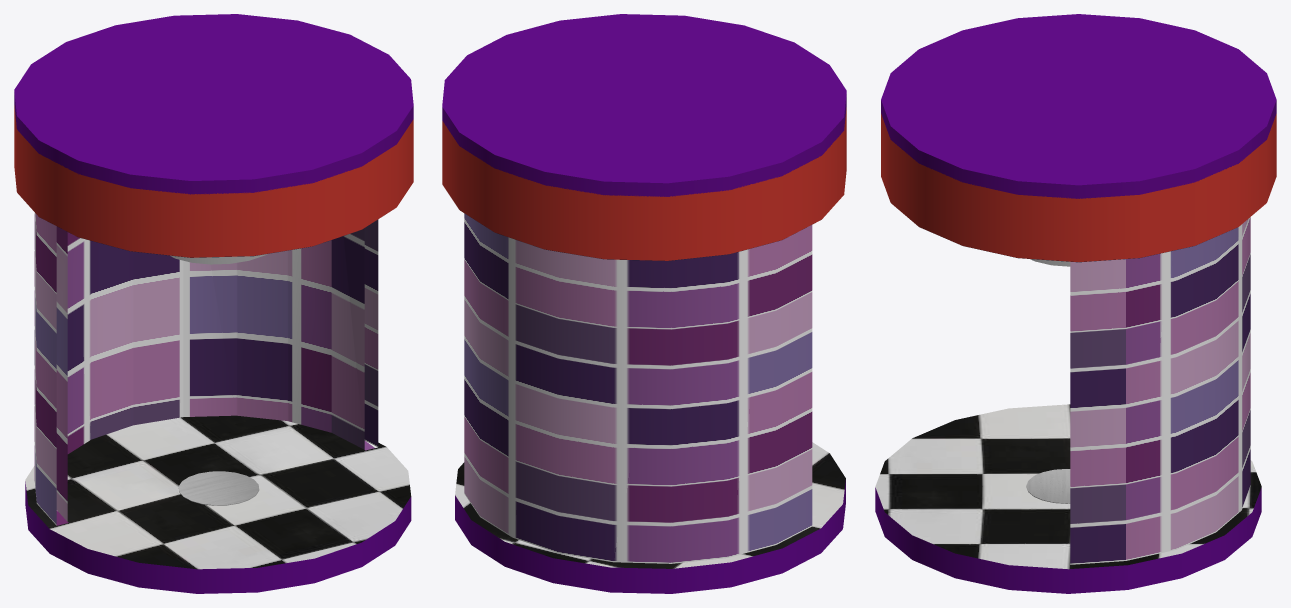
File: Ducha.obj
3 renders of one model, left to right at view 1: azimuth 30°, elevation 25°; view 2: azimuth 150°, elevation 25°; view 3: azimuth 270°, elevation 25°, orthographic.
Visible parts, largest first — view 1: polySurface486polySurface622, polySurface486polySurface672, polySurface486polySurface621, polySurface699polySurface486, polySurface486polySurface619, polySurface486polySurface673; view 2: polySurface486polySurface622, polySurface486polySurface672, polySurface699polySurface486, polySurface486polySurface621; view 3: polySurface486polySurface672, polySurface486polySurface622, polySurface486polySurface621, polySurface699polySurface486, polySurface486polySurface619.
Part boxes in pixels (x1,y1,x2,y2): polySurface486polySurface622: (34,212,378,525); polySurface486polySurface672: (14,14,413,194); polySurface486polySurface621: (25,415,411,593); polySurface699polySurface486: (14,105,413,257); polySurface486polySurface619: (178,471,259,505); polySurface486polySurface673: (170,254,267,264); polySurface486polySurface622: (464,213,812,563); polySurface486polySurface672: (442,14,846,196); polySurface699polySurface486: (442,107,846,260); polySurface486polySurface621: (455,442,845,593); polySurface486polySurface672: (881,14,1276,198); polySurface486polySurface622: (1070,217,1250,564); polySurface486polySurface621: (875,404,1261,593); polySurface699polySurface486: (881,113,1276,262); polySurface486polySurface619: (1026,469,1070,503).
Bounding box in the file's own units: 0.2468 × 0.2768 × 0.2442.
15 materials, 11 textured.
